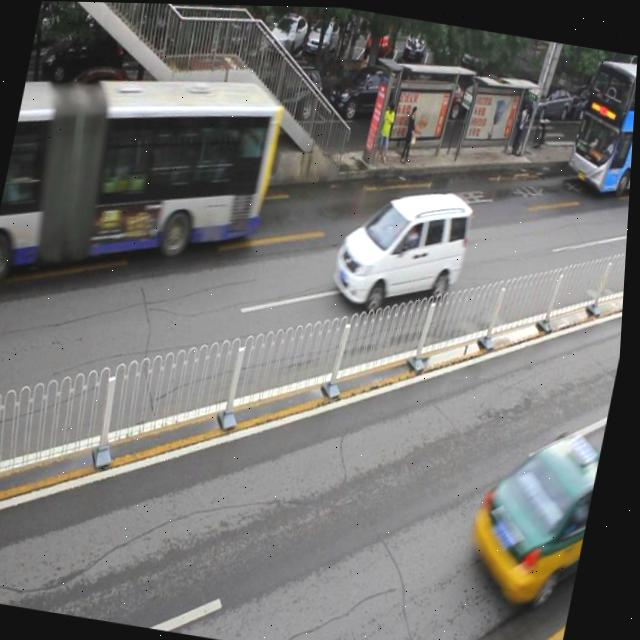car: (463, 409, 611, 611), (41, 57, 142, 144), (141, 64, 244, 144), (329, 66, 416, 146), (254, 59, 336, 136)
truck: (329, 171, 476, 322)
van: (0, 44, 290, 321), (560, 44, 638, 201)
